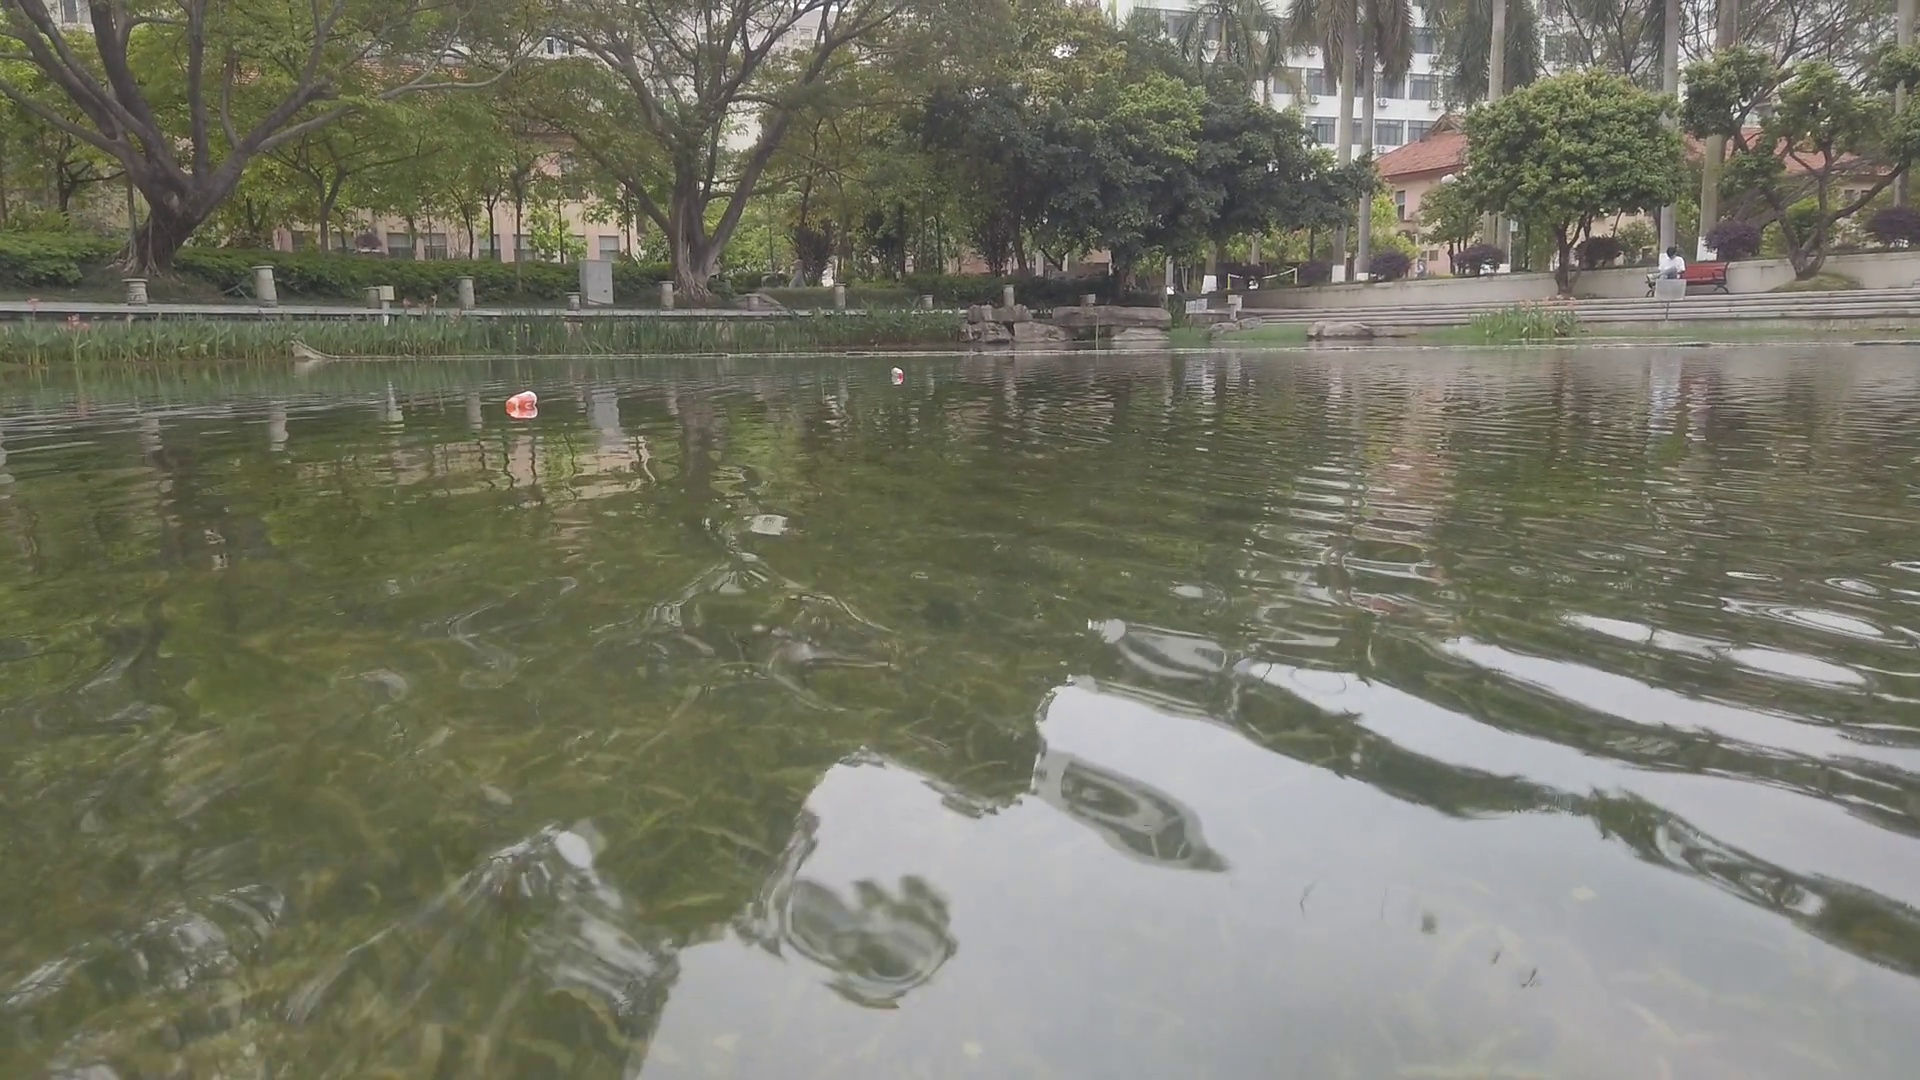bottle: (506, 389, 539, 411), (891, 367, 906, 381)
